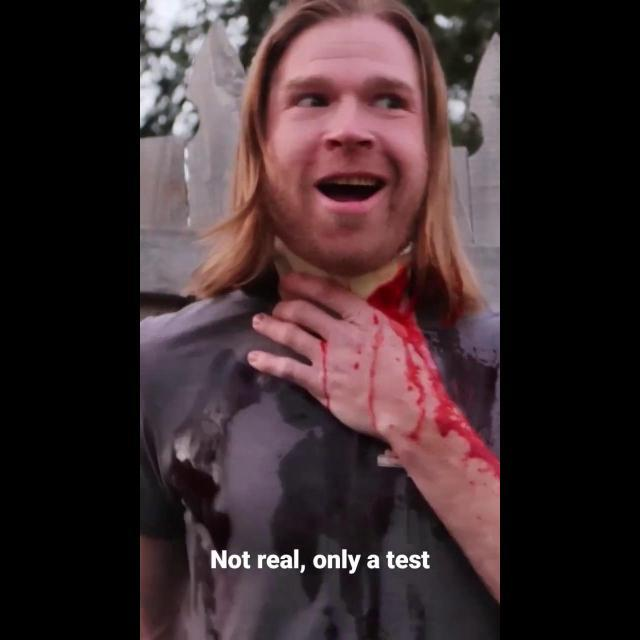blood: (423, 310, 500, 459), (407, 371, 500, 480), (332, 301, 388, 439), (367, 267, 425, 351), (406, 343, 448, 405), (319, 340, 330, 410)
